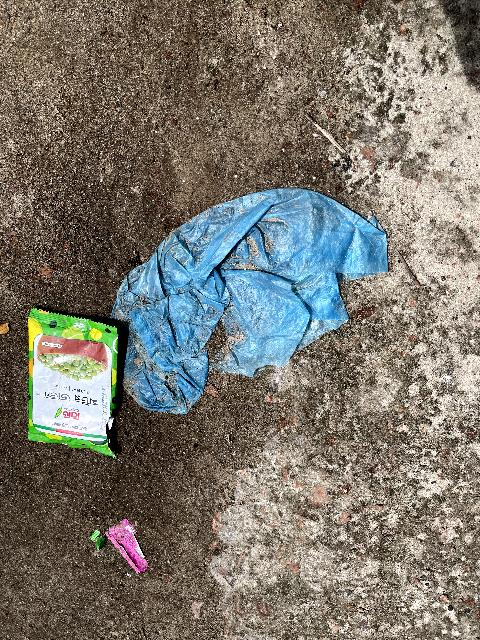polythene: (121, 182, 397, 407)
